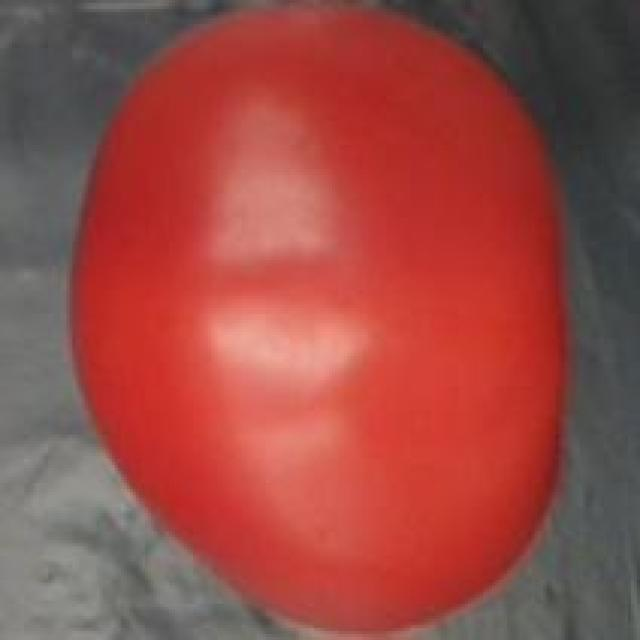ripe tomato: (63, 3, 586, 640)
